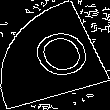O_S: (19, 24, 91, 86)
